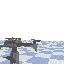drone: (0, 37, 41, 63)
